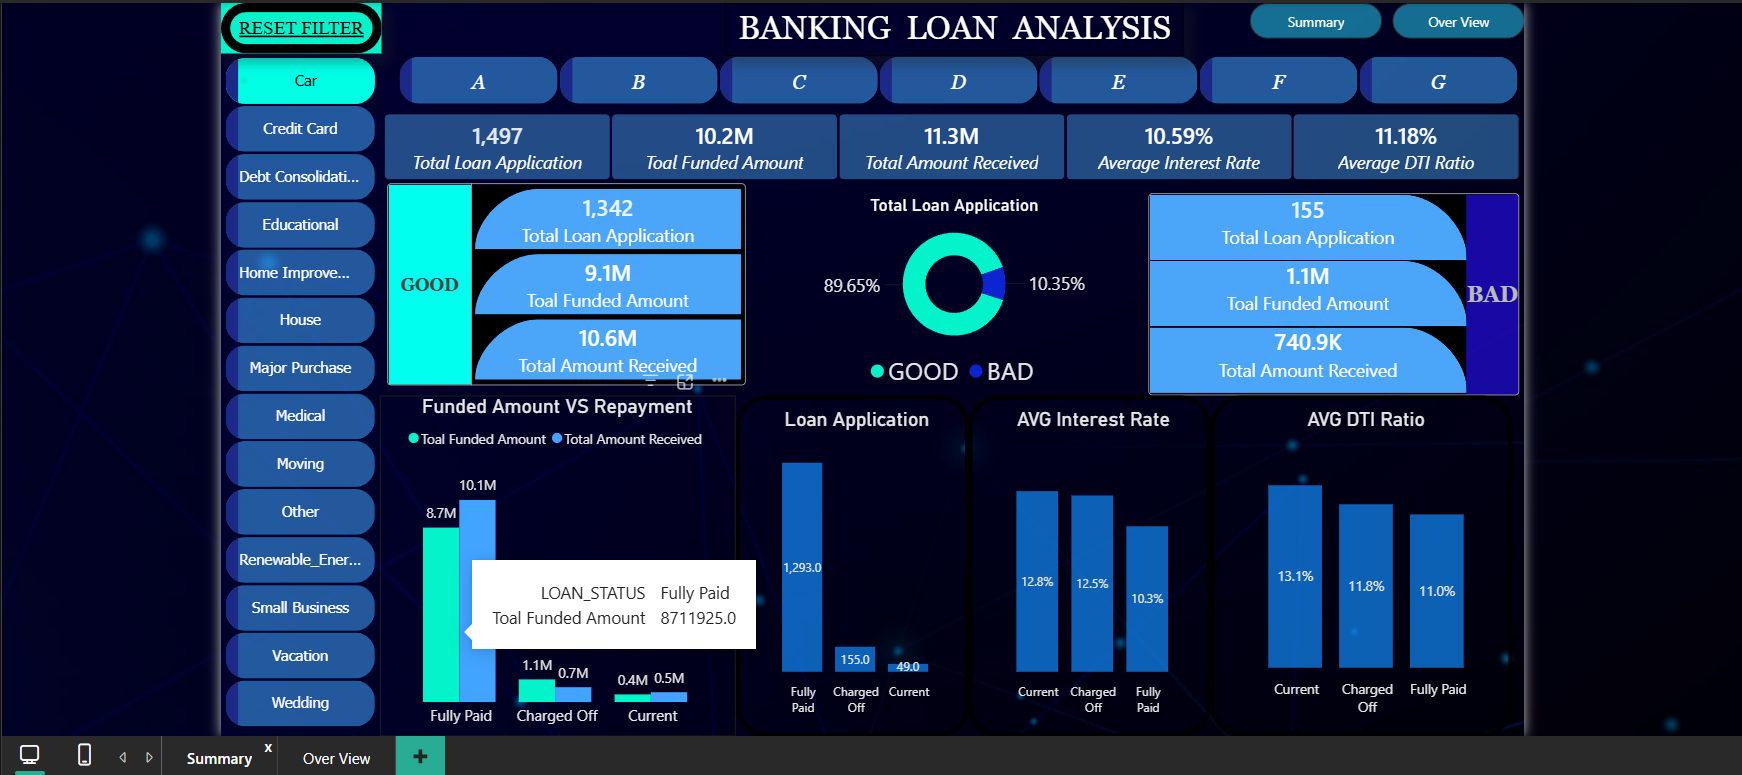

The page's visual inventory and layout, read from the dashboard file:
{"tool":"powerbi","page":{"name":"Summary","canvas":[1280,720],"ordinal":0},"visuals":[{"type":"cardVisual","fields":{"Data":["financial_loan.Total Loan Application","financial_loan.Toal Funded Amount","financial_loan.Total Amount Received","financial_loan.Average Interest Rate","financial_loan.Average DTI Rate"]},"box":[156.4,104.3,1123.8,74.1],"z":0},{"type":"donutChart","title":"Total  Loan Application","fields":{"Category":["financial_loan.Good_VS_BAD loan"],"Y":["financial_loan.Total Loan Application"]},"box":[520.1,188,399.3,197.6],"z":1000},{"type":"cardVisual","fields":{"Data":["financial_loan.Total Loan Application","financial_loan.Toal Funded Amount","financial_loan.Total Amount Received"],"Rows":["financial_loan.Good_VS_BAD"]},"box":[157.8,152.3,362.3,248.4],"z":2000},{"type":"cardVisual","fields":{"Data":["financial_loan.Total Loan Application","financial_loan.Toal Funded Amount","financial_loan.Total Amount Received"],"Rows":["financial_loan.Good_VS_BAD"]},"box":[905.7,161.9,374.6,248.4],"z":3000},{"type":"clusteredColumnChart","title":"Funded Amount VS Repayment","fields":{"Category":["financial_loan.LOAN_STATUS"],"Y":["financial_loan.Toal Funded Amount","financial_loan.Total Amount Received"]},"box":[156.4,385.6,348.5,334.8],"z":4000},{"type":"clusteredColumnChart","title":"Loan Application","fields":{"Category":["financial_loan.LOAN_STATUS"],"Y":["financial_loan.Total Loan Application"]},"box":[505,385.6,229.2,334.8],"z":5000},{"type":"clusteredColumnChart","title":"AVG Interest Rate","fields":{"Category":["financial_loan.LOAN_STATUS"],"Y":["financial_loan.Average Interest Rate"]},"box":[734.1,385.6,237.4,334.8],"z":6000},{"type":"clusteredColumnChart","title":"AVG DTI  Ratio","fields":{"Category":["financial_loan.LOAN_STATUS"],"Y":["financial_loan.Average DTI Ratio"]},"box":[971.5,385.6,296.4,334.8],"z":7000},{"type":"advancedSlicerVisual","fields":{"Values":["financial_loan.PURPOSE"]},"box":[0,49.4,156.4,671],"z":8000},{"type":"advancedSlicerVisual","fields":{"Values":["financial_loan.GRADE"]},"box":[170.2,48,1110.1,56.3],"z":9000},{"type":"textbox","box":[494,0,450.1,52.1],"z":10000},{"type":"actionButton","box":[0,0,157.8,49.4],"z":11000},{"type":"pageNavigator","box":[1010.1,0,270,35.8],"z":12000}]}

Visuals, with their boxes on the page's 1280x720 design canvas (x1, y1, x2, y2). These are canvas units, not pixel positions in the 1742x775 screenshot, which may show the page scaled, cropped or inside an application window:
cardVisual - financial_loan.Total Loan Application x financial_loan.Toal Funded Amount: (156,104,1280,178)
"Total  Loan Application" donutChart: (520,188,919,386)
cardVisual - financial_loan.Total Loan Application x financial_loan.Toal Funded Amount: (158,152,520,401)
cardVisual - financial_loan.Total Loan Application x financial_loan.Toal Funded Amount: (906,162,1280,410)
"Funded Amount VS Repayment" clusteredColumnChart: (156,386,505,720)
"Loan Application" clusteredColumnChart: (505,386,734,720)
"AVG Interest Rate" clusteredColumnChart: (734,386,972,720)
"AVG DTI  Ratio" clusteredColumnChart: (972,386,1268,720)
advancedSlicerVisual - financial_loan.PURPOSE: (0,49,156,720)
advancedSlicerVisual - financial_loan.GRADE: (170,48,1280,104)
textbox: (494,0,944,52)
actionButton: (0,0,158,49)
pageNavigator: (1010,0,1280,36)
